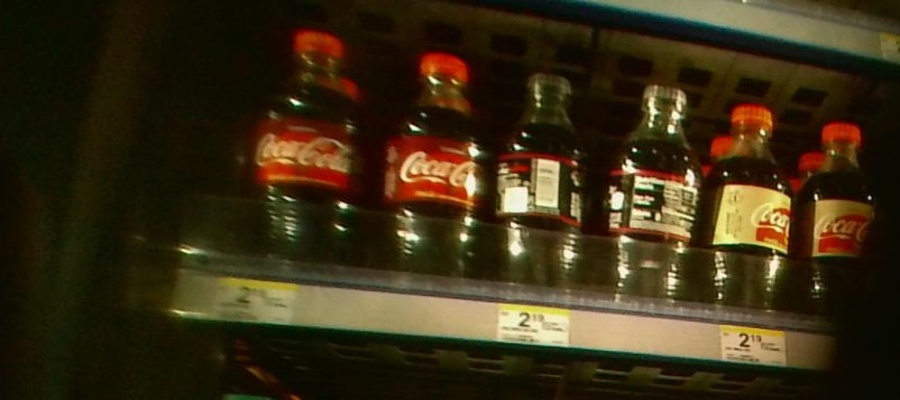bottle: (249, 22, 367, 258), (380, 39, 492, 278), (496, 45, 594, 303), (605, 65, 705, 308), (707, 94, 793, 314), (797, 108, 875, 306)
